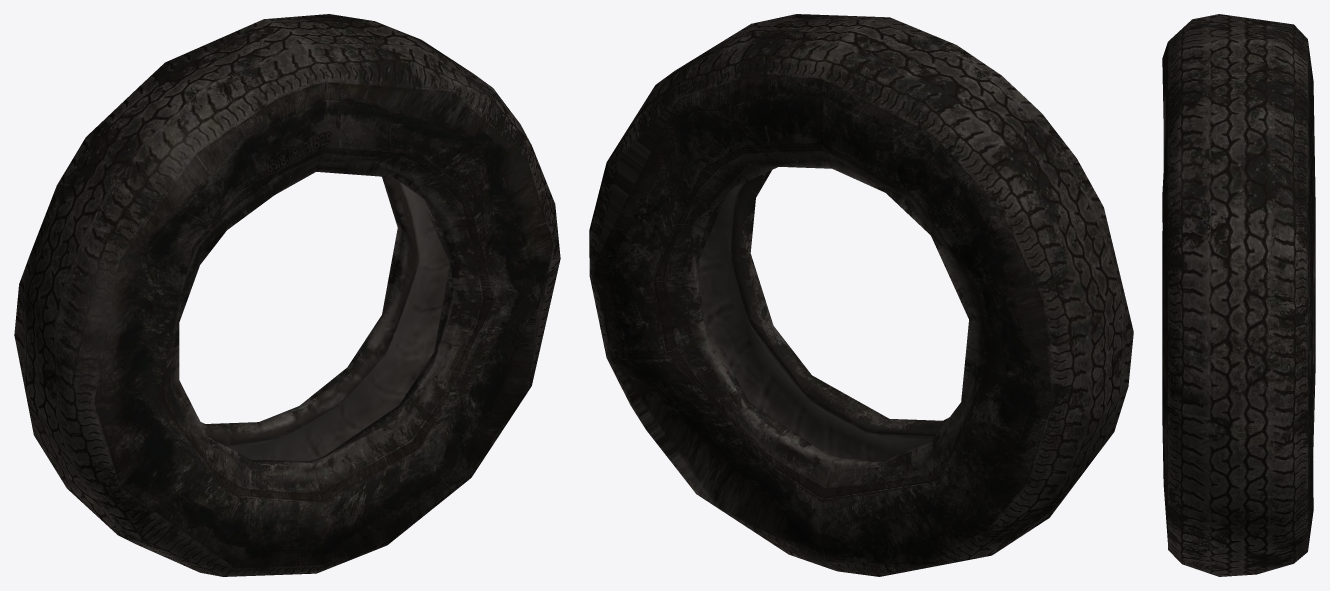
File: old_tyre.glb
The picture shows the model from 3 angles, left to right: view 1: azimuth 30°, elevation 25°; view 2: azimuth 150°, elevation 25°; view 3: azimuth 270°, elevation 25°; orthographic projection. The views are drawn at different scales.
Parts seen in each view (by area): view 1: old_tyre; view 2: old_tyre; view 3: old_tyre.
Boxes of the visible parts, left/top/right/bottom form: old_tyre: left=14, top=14, right=560, bottom=576; old_tyre: left=589, top=14, right=1133, bottom=576; old_tyre: left=1162, top=14, right=1315, bottom=576.
Bounding box in the file's own units: 0.5943 × 0.6 × 0.1632.
1 material, 1 textured.
